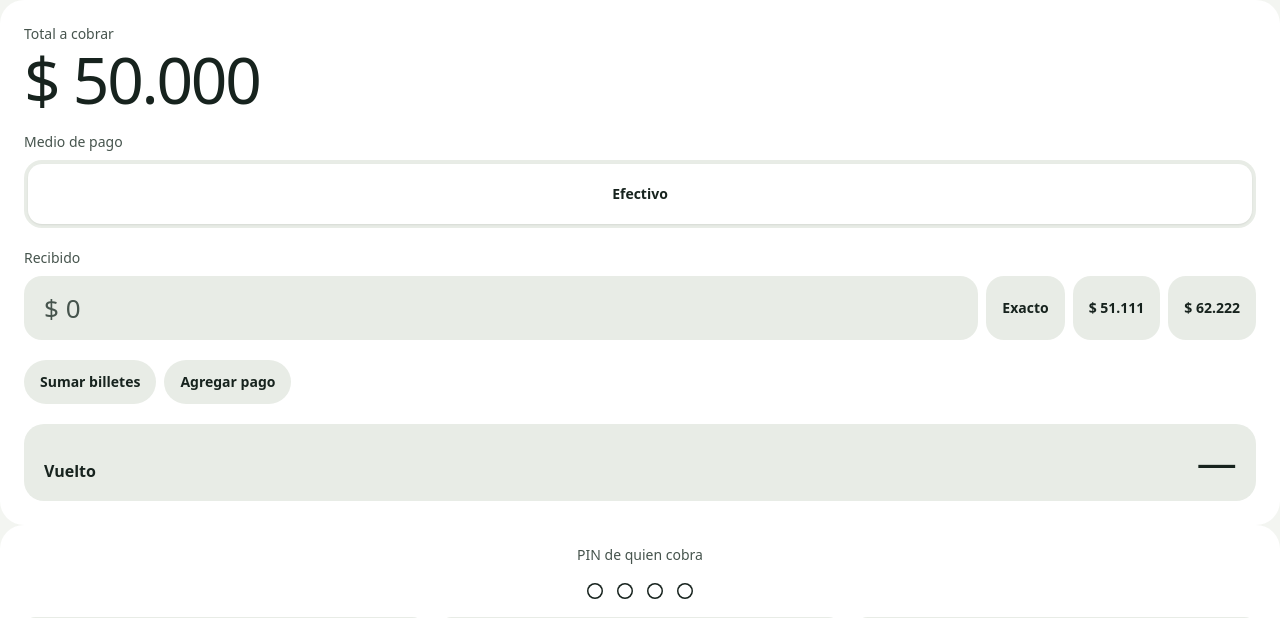
PaymentSplitsForm — lo recibido en un toque › «Exacto» pone el monto y las cifras redondas son las del servidor
Expected: the button "$ 51.111" is shown, [1073,276,1160,340]
Expected: the button "$ 62.222" is shown, [1168,276,1256,340]
What coordinates should you click on to do the following:
click the button "Exacto"
I would click on:
 (1025, 308)
Its box is [986,276,1065,340].
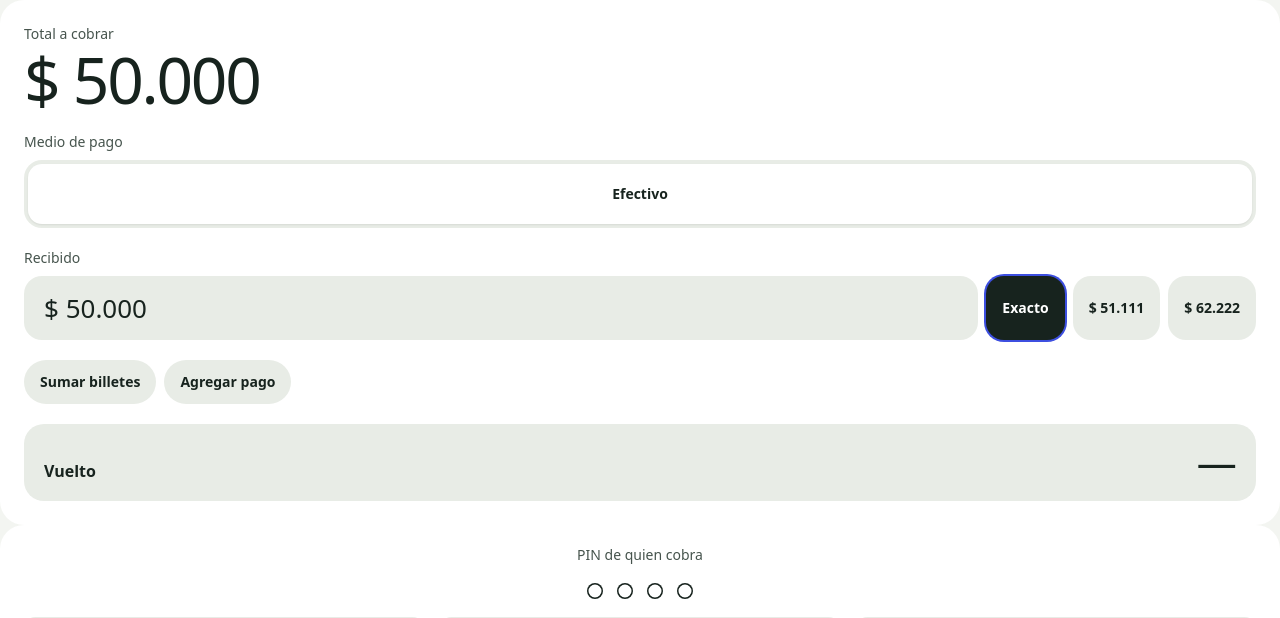
Now the field labelled "Recibido" holds "$ 50.000", box [44,284,958,332]
What coordinates should you click on to do the following:
click the button "$ 62.222"
I would click on:
 (1212, 308)
Its box is [1168,276,1256,340].
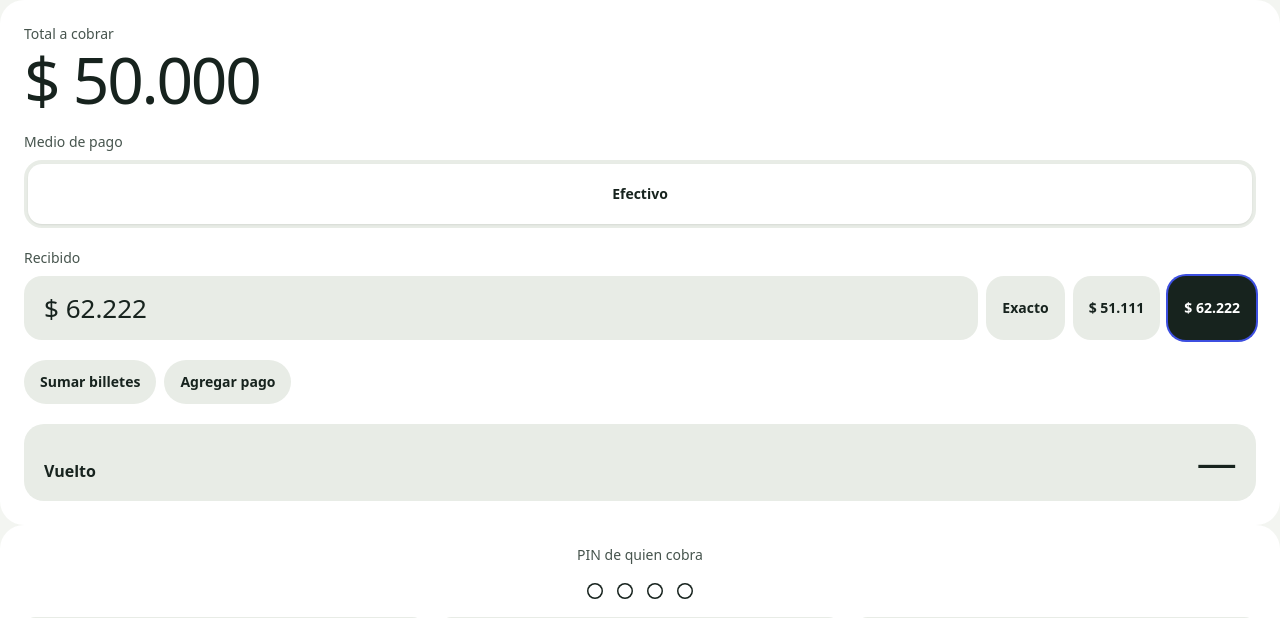
Now the field labelled "Recibido" holds "$ 62.222", box [44,284,958,332]
Note: Los billetes que se suman siguen ahí, como segunda opción (plegados).
What coordinates should you click on to do the following:
click the button "Sumar billetes"
I would click on:
 (90, 382)
Its box is [24,360,156,404].
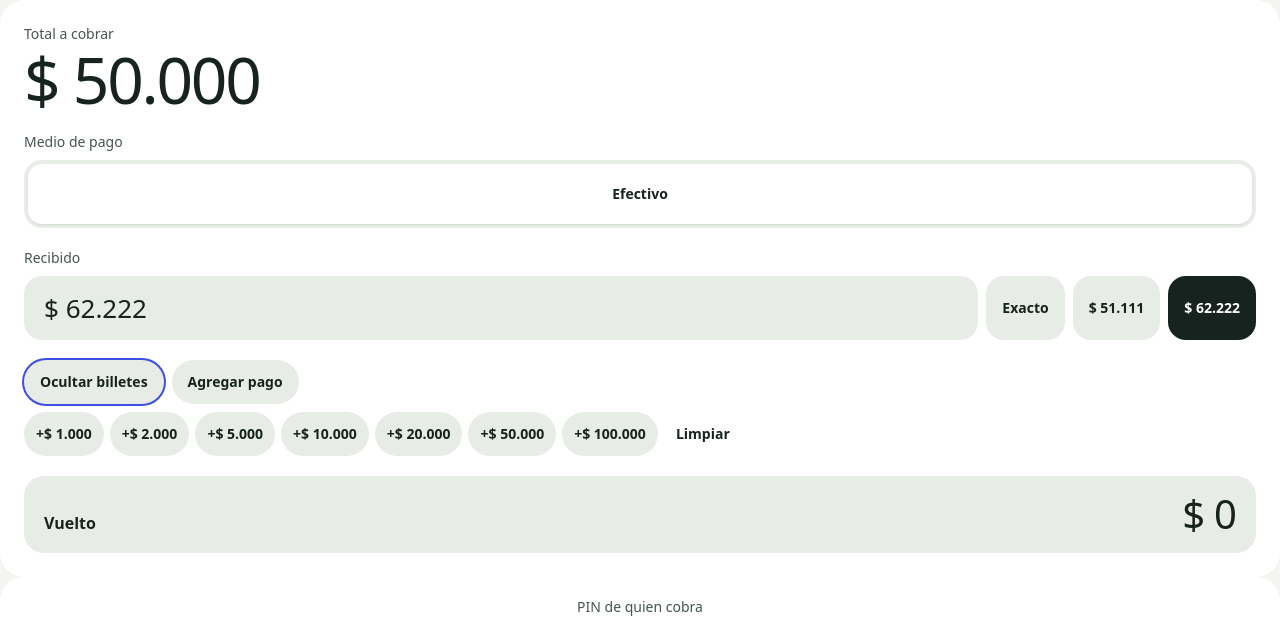
Now the button "+$ 1.000" is shown, box [24,412,104,456]
